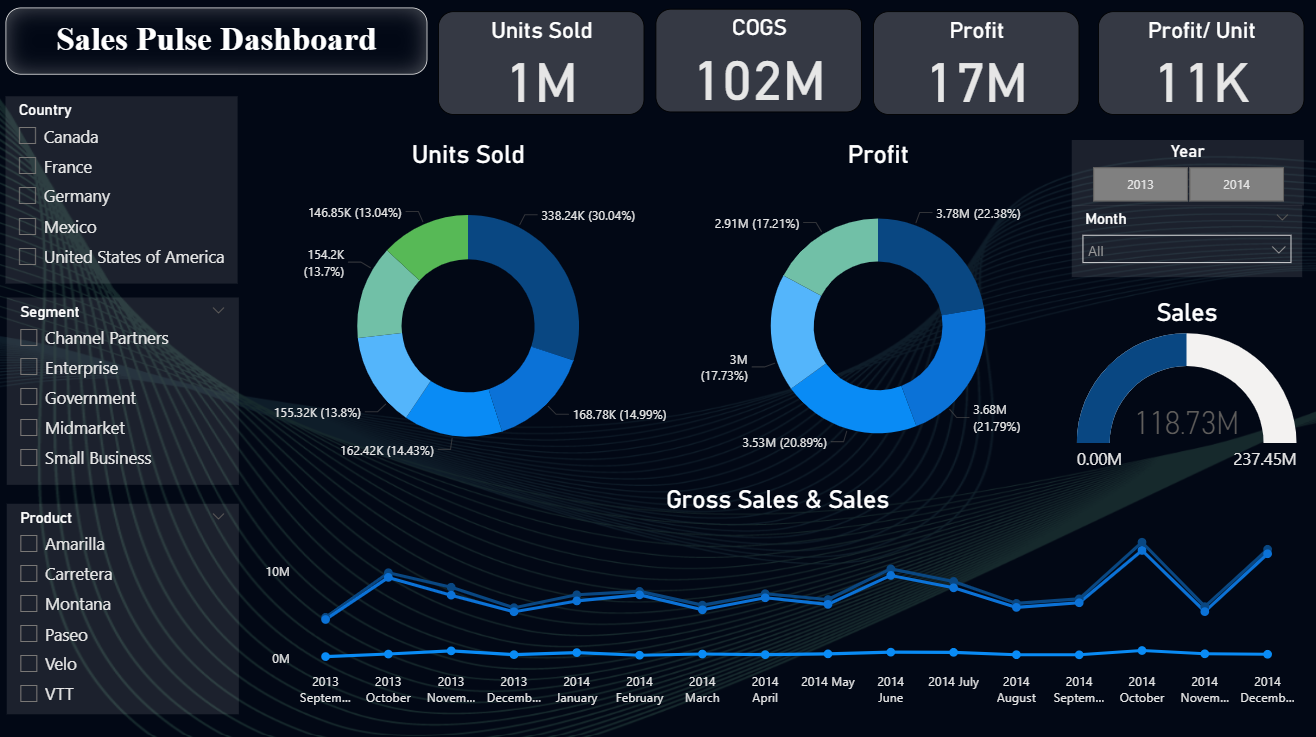

This screenshot's page, from the dashboard's own definition file:
{"tool":"powerbi","page":{"name":"Page 1","canvas":[1280,720],"ordinal":0},"visuals":[{"type":"textbox","box":[12.3,12.3,407.5,64.5],"z":0},{"type":"card","title":"Profit","fields":{"Values":["Sum(financials.Profit)"]},"box":[849.4,15.1,199,100.2],"z":1000},{"type":"slicer","fields":{"Values":["financials.Month Name"]},"box":[1041.5,203.1,222.3,70],"z":2000},{"type":"slicer","fields":{"Values":["financials.Country"]},"box":[12.3,97.4,223.7,181.1],"z":3000},{"type":"card","title":"Profit/ Unit","fields":{"Values":["Sum(financials.Profit per Unit)"]},"box":[1066.2,15.1,199,100.2],"z":4000},{"type":"card","title":"Units Sold","fields":{"Values":["Sum(financials.Units Sold)"]},"box":[429.5,15.1,199,100.2],"z":5000},{"type":"slicer","fields":{"Values":["financials.Segment"]},"box":[13.7,292.3,223.7,181.1],"z":6000},{"type":"lineChart","title":"Gross Sales & Sales","fields":{"Y":["Sum(financials.Gross Sales)","Sum(financials. Sales)","Sum(financials.Discounts)"],"Category":["financials.Date.Variation.Date Hierarchy.Year","financials.Date.Variation.Date Hierarchy.Month"]},"box":[251.1,473.4,1012.7,220.9],"z":7000},{"type":"slicer","title":"Year","fields":{"Values":["financials.Date.Variation.Date Hierarchy.Year"]},"box":[1041.5,140,223.7,63.1],"z":8000},{"type":"card","title":"COGS","fields":{"Values":["Sum(financials.COGS)"]},"box":[639.5,13.7,199,100.2],"z":9000},{"type":"slicer","title":"Products","fields":{"Values":["financials.Product"]},"box":[13.7,491.3,223.7,203.1],"z":9001},{"type":"gauge","title":"Sales","fields":{"Y":["Sum(financials. Sales)"]},"box":[1041.5,292.3,222.3,179.8],"z":9002},{"type":"donutChart","title":"Profit","fields":{"Category":["financials.Country"],"Y":["Sum(financials.Profit)"]},"box":[666.9,140,374.6,332.1],"z":9003},{"type":"donutChart","title":"Units Sold","fields":{"Category":["financials.Product"],"Y":["Sum(financials.Units Sold)"]},"box":[251.1,140,415.8,332.1],"z":9005}]}

Visuals, with their boxes in screenshot pixels (x1, y1, x2, y2), scaled from the page's 1280x720 canvas onto the 1316x737 screenshot:
textbox: left=13, top=13, right=432, bottom=79
"Profit" card: left=873, top=15, right=1078, bottom=118
slicer - financials.Month Name: left=1071, top=208, right=1299, bottom=280
slicer - financials.Country: left=13, top=100, right=243, bottom=285
"Profit/ Unit" card: left=1096, top=15, right=1301, bottom=118
"Units Sold" card: left=442, top=15, right=646, bottom=118
slicer - financials.Segment: left=14, top=299, right=244, bottom=485
"Gross Sales & Sales" lineChart: left=258, top=485, right=1299, bottom=711
"Year" slicer: left=1071, top=143, right=1301, bottom=208
"COGS" card: left=657, top=14, right=862, bottom=117
"Products" slicer: left=14, top=503, right=244, bottom=711
"Sales" gauge: left=1071, top=299, right=1299, bottom=483
"Profit" donutChart: left=686, top=143, right=1071, bottom=483
"Units Sold" donutChart: left=258, top=143, right=686, bottom=483
